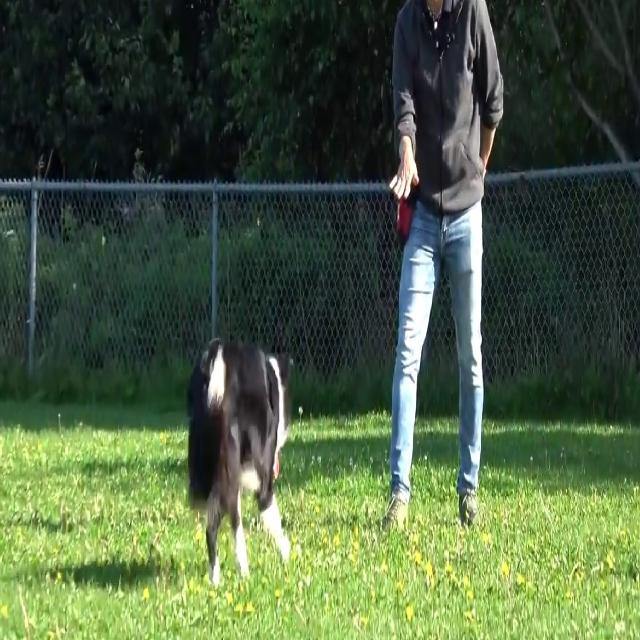Unleashed_Dog: (188, 339, 484, 587)
